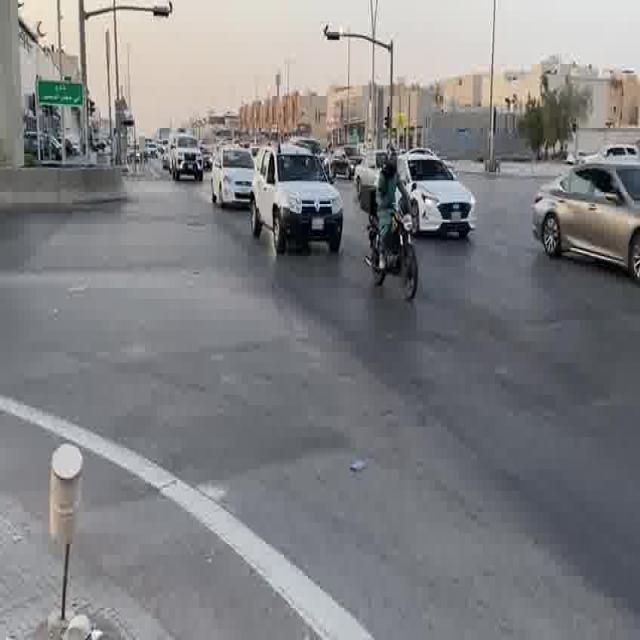bus: (533, 143, 640, 287), (253, 143, 347, 251), (407, 158, 475, 239), (211, 148, 256, 210), (354, 150, 383, 213), (170, 134, 205, 180), (325, 148, 350, 182), (158, 144, 171, 173), (146, 142, 162, 165), (407, 149, 437, 161), (143, 139, 158, 158)
car: (179, 209, 640, 640), (533, 143, 640, 287), (253, 143, 347, 251), (407, 158, 475, 239), (211, 148, 256, 210), (354, 150, 383, 213), (170, 134, 205, 180), (325, 148, 350, 182), (158, 144, 171, 173), (146, 142, 162, 165), (407, 149, 437, 161), (143, 139, 158, 158)
lanes: (179, 209, 640, 640), (226, 209, 639, 634)
lanes2: (226, 209, 639, 634), (260, 205, 640, 474)
lanes3: (260, 205, 640, 474), (286, 201, 640, 404)
lanes4: (286, 201, 640, 404), (327, 192, 640, 313)
lanes5: (327, 192, 640, 313), (361, 159, 422, 298)
motorbike: (361, 159, 422, 298)
